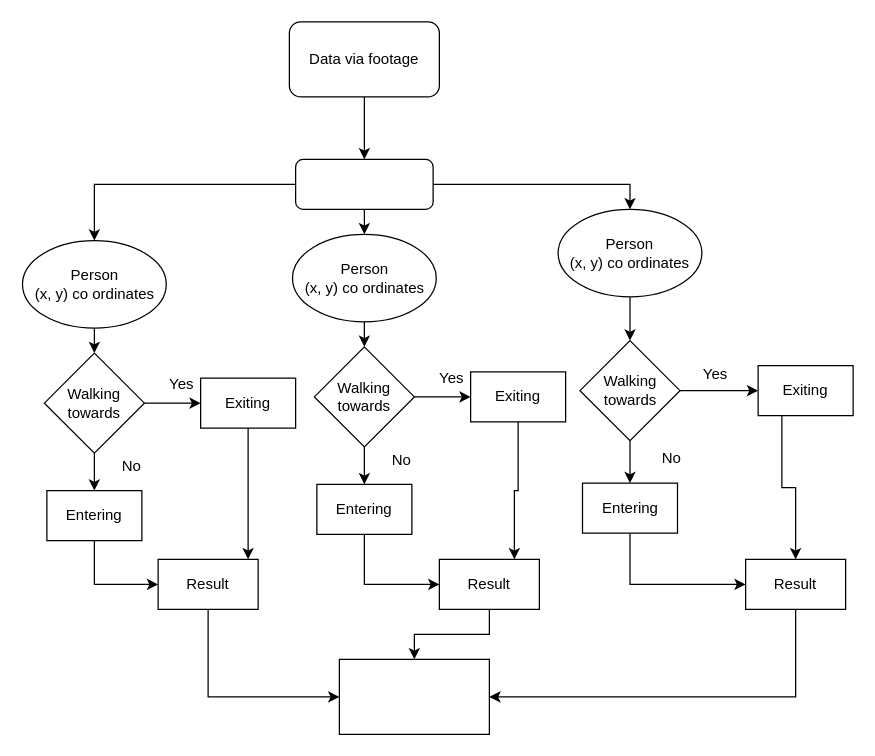
This 875x756 diagram has some shape labels left out. Each missing label, with the box of its shape:
AI Model: (294, 158, 433, 209)
Total Count: (338, 658, 489, 734)
